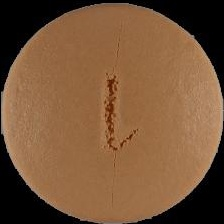68462-461: (0, 0, 224, 224)
